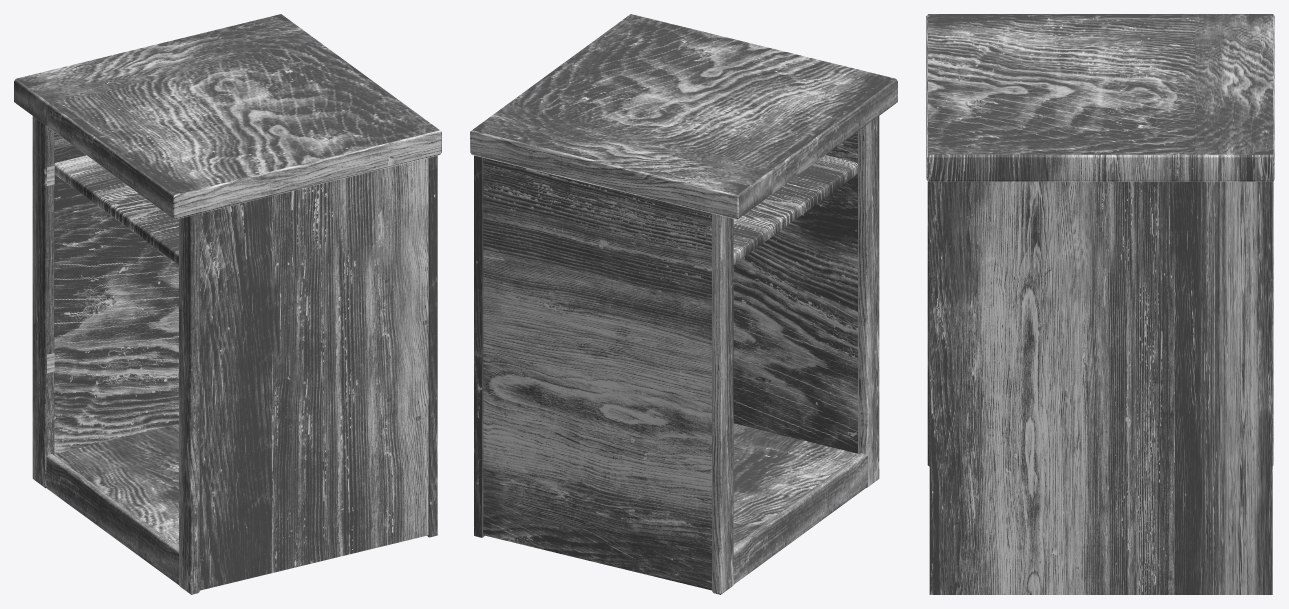
Rendered from SM_KitchenSet_A1.fbx.
3 renders of one model, left to right at view 1: azimuth 30°, elevation 25°; view 2: azimuth 150°, elevation 25°; view 3: azimuth 270°, elevation 25°, orthographic. The views are drawn at different scales.
Visible parts, largest first — view 1: SM_KitchenSet_A1; view 2: SM_KitchenSet_A1; view 3: SM_KitchenSet_A1.
Part boxes in pixels (x1,y1,x2,y2): SM_KitchenSet_A1: (14, 14, 441, 594); SM_KitchenSet_A1: (470, 14, 897, 594); SM_KitchenSet_A1: (926, 14, 1274, 594).
Size of the model in its own units: 58.58 by 60.38 by 84.38.
2 materials, 2 textured.
